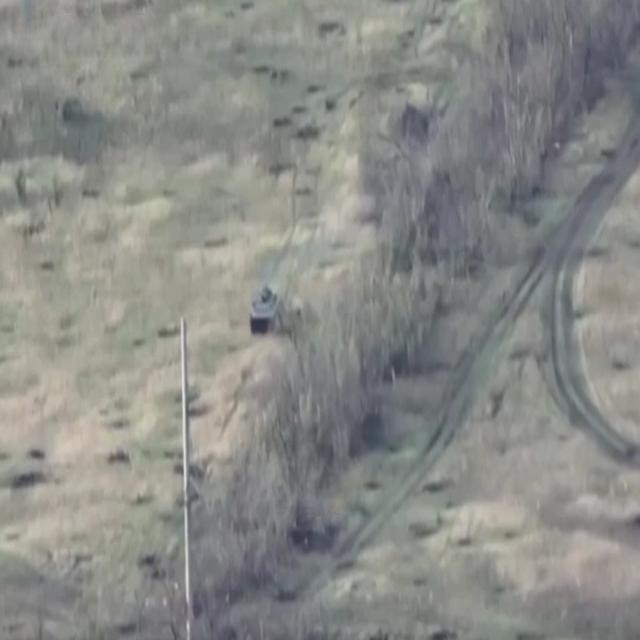AIFV: (249, 283, 284, 339)
